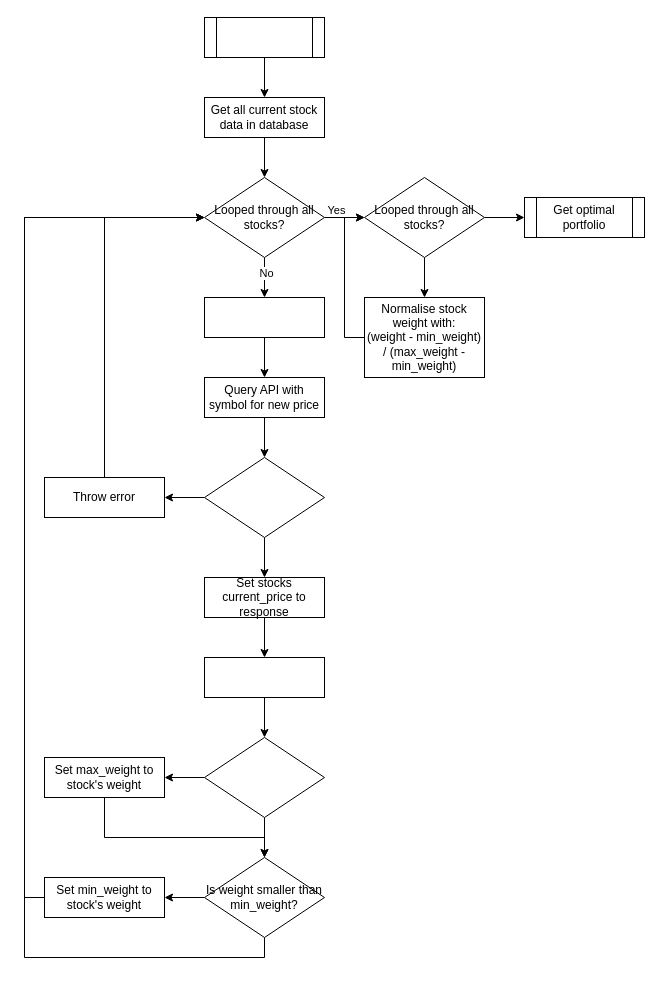
Image size: 662x983. Some labels were removed from this diagram. The shapes that lost their labels are listed below. From the top down, each one's box as (x1, y1, x2, y2) in pixels, then its label:
(204, 16, 324, 58): Update stock data and weights
(204, 296, 324, 338): Set stock's historic_price to current_price
(204, 456, 324, 538): Response is 20x?
(204, 656, 324, 698): Calculate the weight
(204, 736, 324, 818): Is weight bigger than max_weight?
